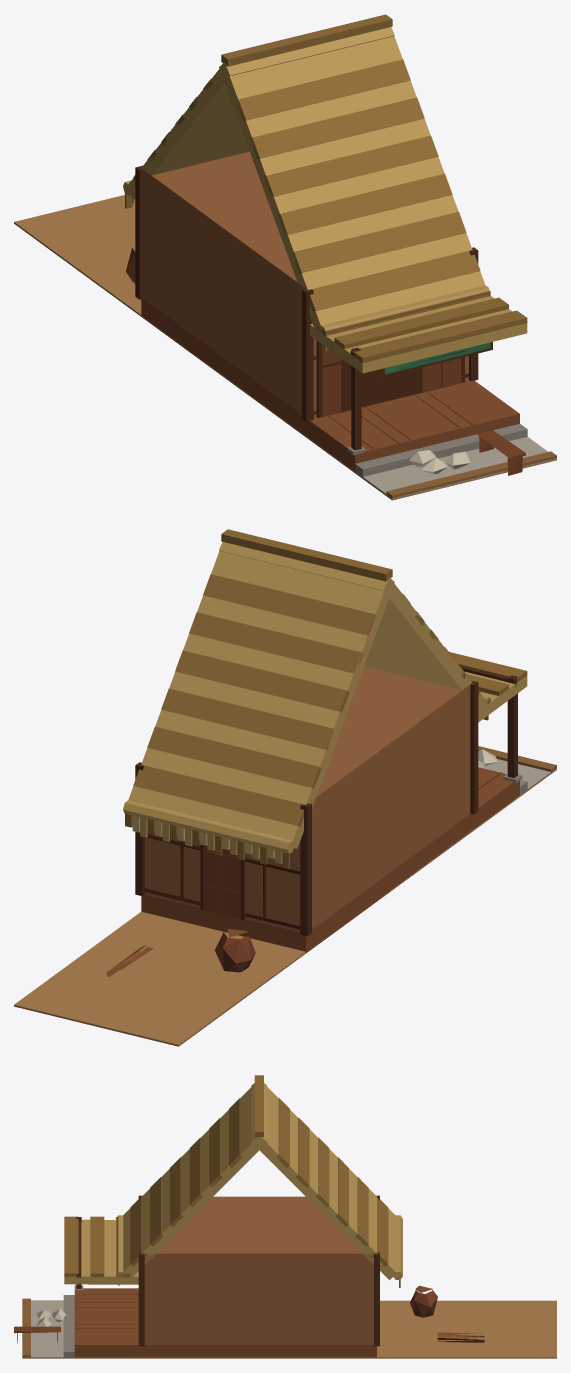
File: bay1_mid2.glb
3 views of the same model, one above another, from view 1: azimuth 30°, elevation 25°; view 2: azimuth 150°, elevation 25°; view 3: azimuth 270°, elevation 25° (orthographic). The views are drawn at different scales.
Parts seen in each view (by area): view 1: body; view 2: body; view 3: body.
Part boxes in pixels (<box>): body: <box>14,14,556,500</box>; body: <box>14,529,556,1046</box>; body: <box>14,1075,556,1358</box>.
Size of the model in its own units: 4.18 by 7.45 by 16.15.
